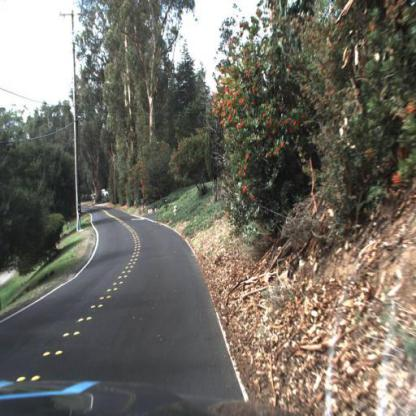car: (102, 186, 115, 204)
